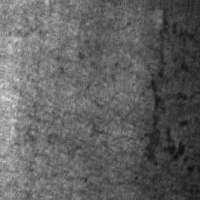crazing: (22, 110, 144, 188), (142, 6, 200, 170)
